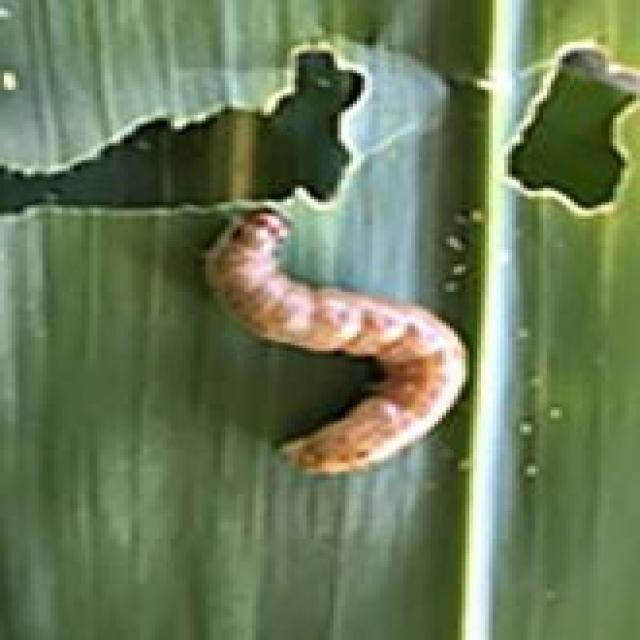army worm: (197, 206, 480, 487)
